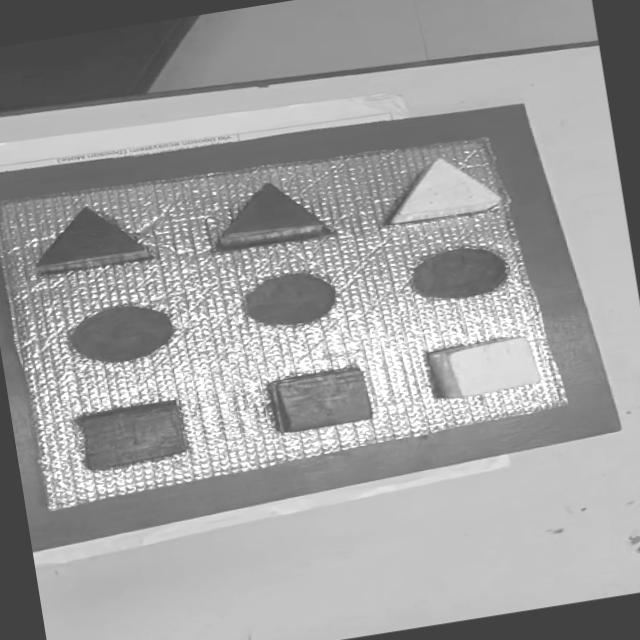bcube: (76, 398, 192, 473)
btriangle: (28, 198, 160, 279)
mtcircle: (65, 298, 181, 370), (407, 240, 513, 306), (240, 268, 342, 334)
rtriangle: (208, 175, 334, 255)
wb: (0, 120, 572, 508)
ycube: (428, 332, 544, 402)
ytriangle: (378, 150, 504, 228), (268, 364, 376, 436)
